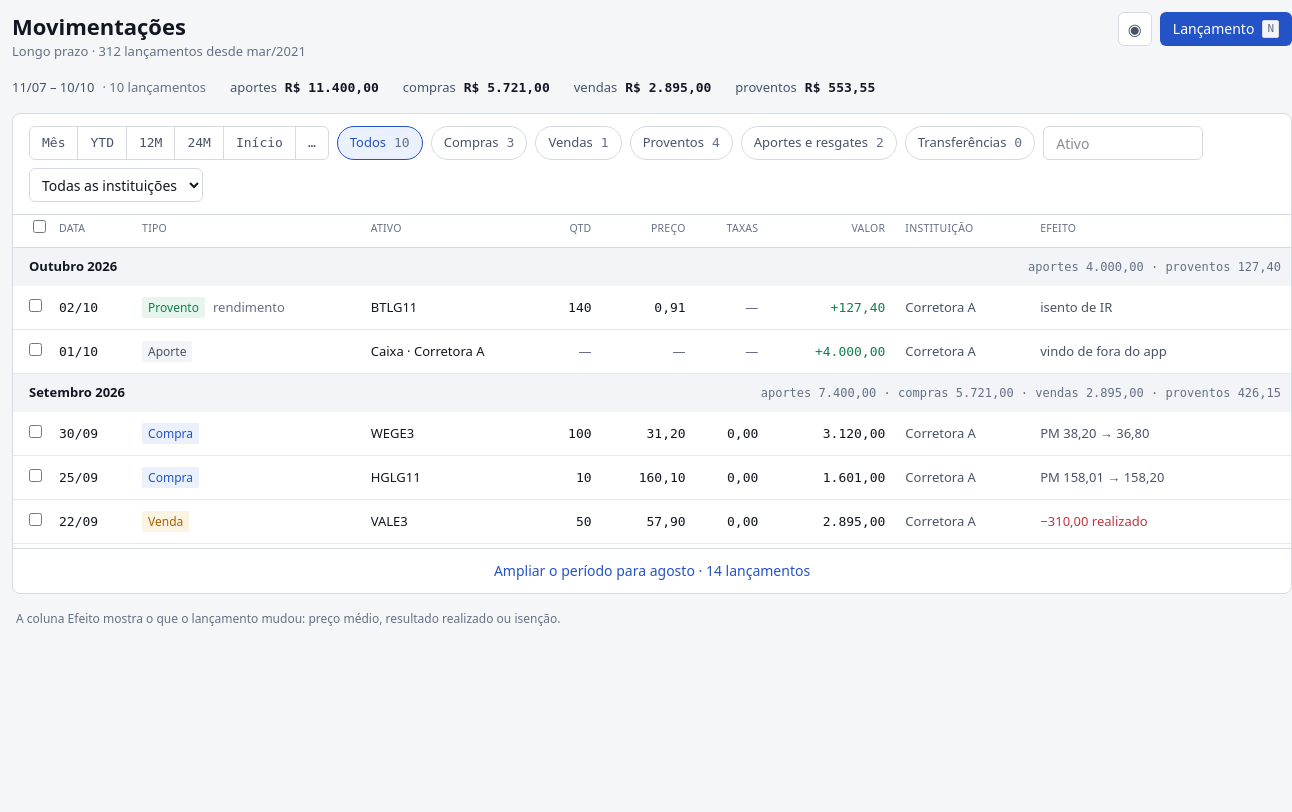
Test: tela de Movimentações › excluir pede à api, avisa do recálculo e oferece desfazer
Check: the column heading "Outubro 2026" is shown, box [13,248,540,286]
Click the checkbox named "Selecionar Venda de VALE3" at (36, 519), box [29,513,42,526]
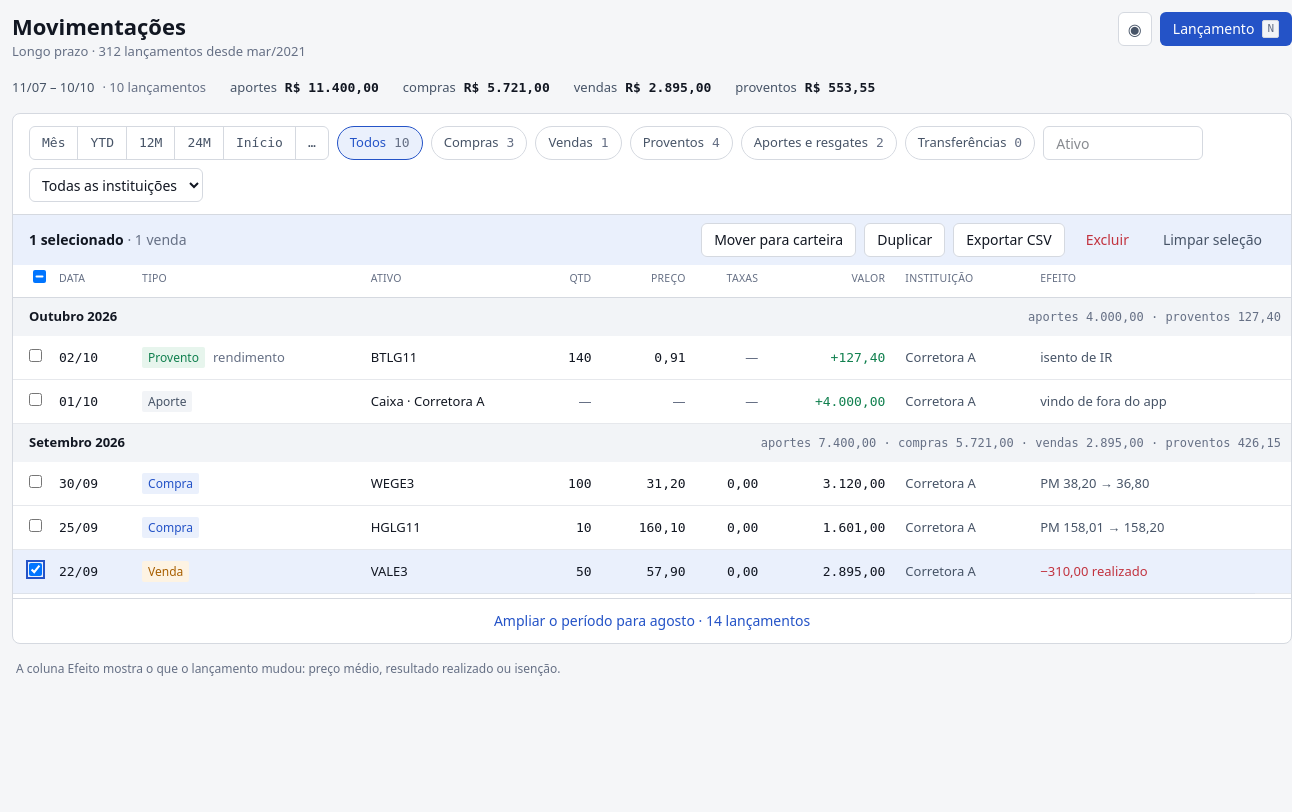
Click the button "Excluir" at (1107, 240), box [1073,223,1142,257]
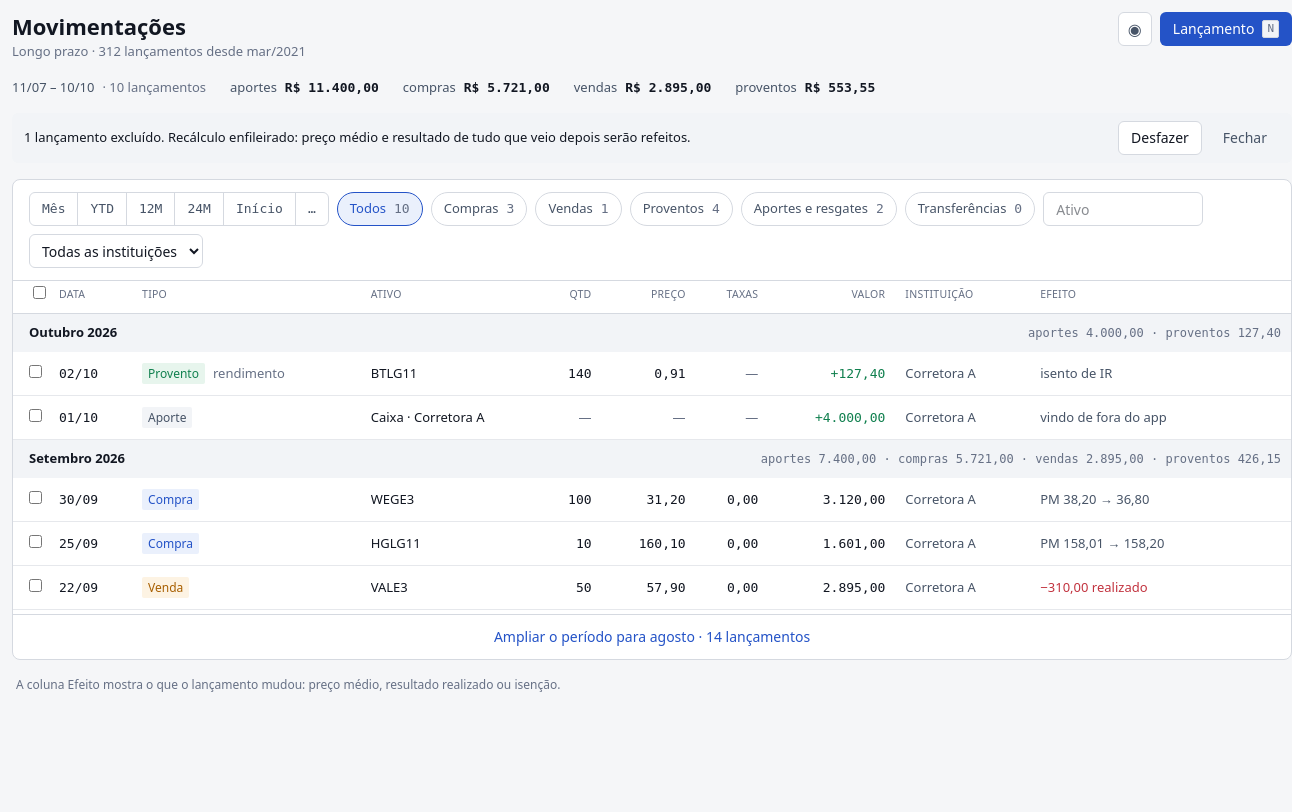
Check: the text "1 lançamento excluído. Recálculo enfileirado" is shown, box [24,128,691,146]
Click the button "Desfazer" at (1160, 138), box [1118,121,1202,155]
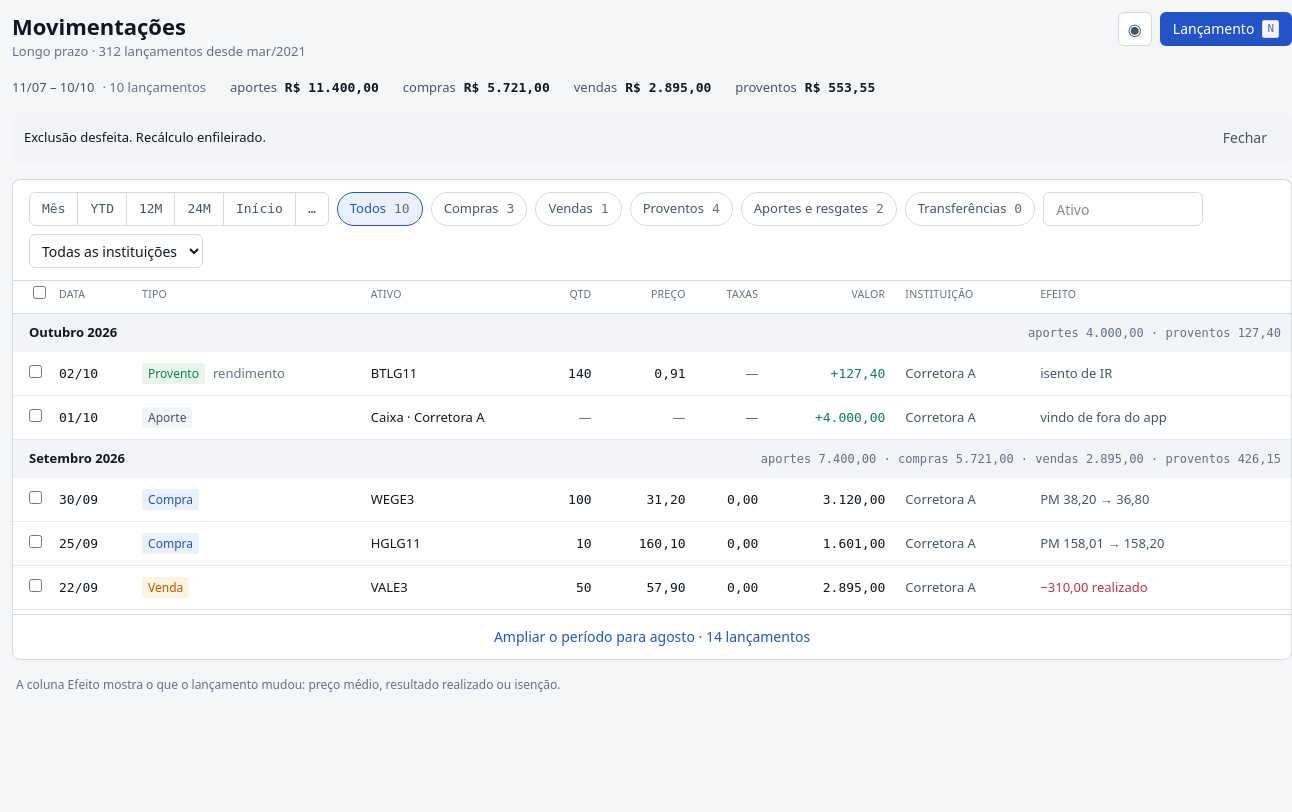
Check: the text "Exclusão desfeita. Recálculo enfileirado." is shown, box [24,128,266,148]
